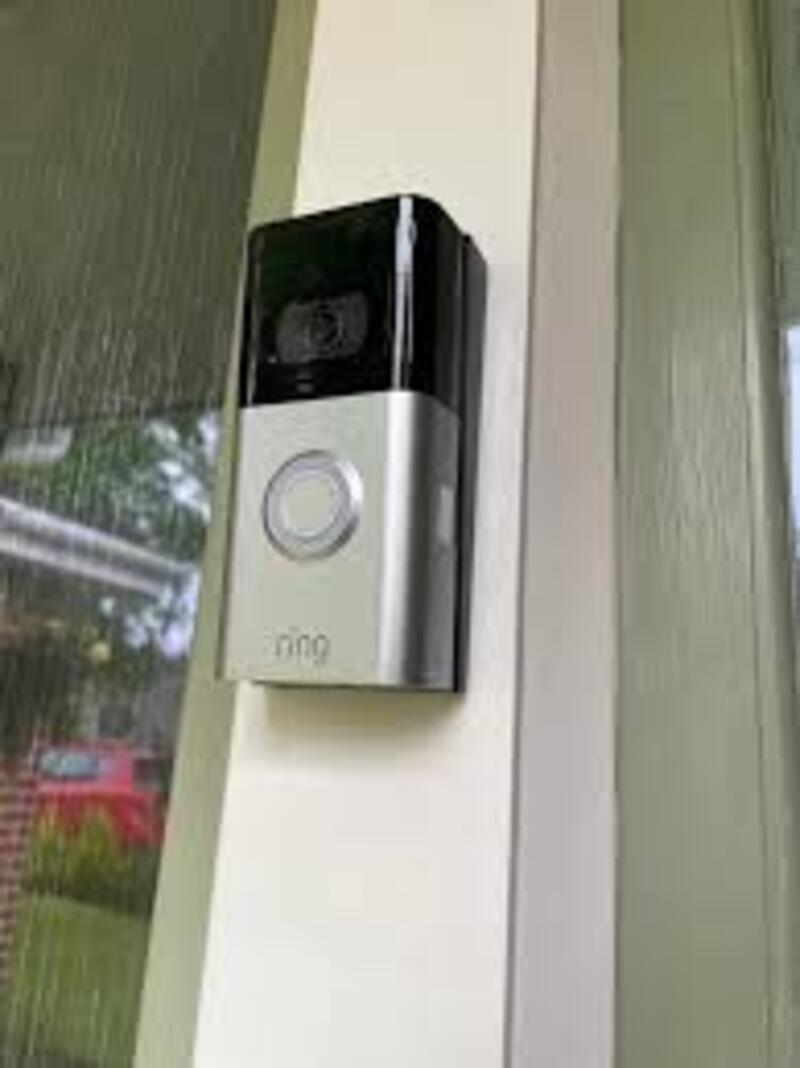doorbell: (230, 204, 472, 697)
